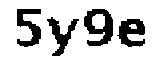5: (12, 5, 46, 49)
9: (78, 7, 115, 52)
e: (116, 16, 150, 50)
y: (47, 15, 76, 60)
